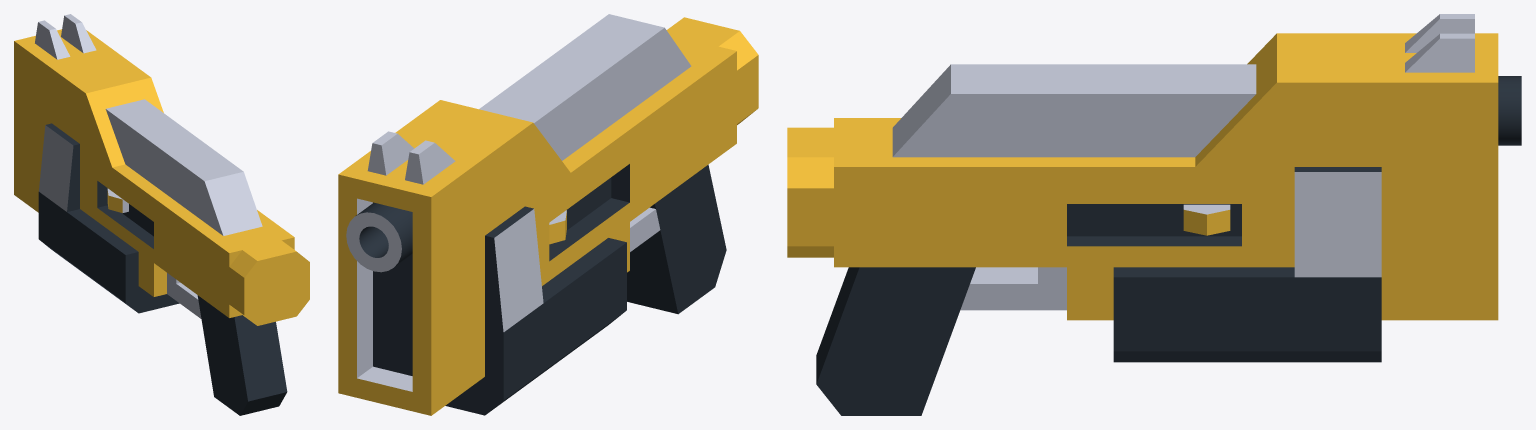
File: blasterM.dae
3 views of the same model, side by side, from view 1: azimuth 30°, elevation 25°; view 2: azimuth 150°, elevation 25°; view 3: azimuth 270°, elevation 25° (orthographic). The views are drawn at different scales.
Visible parts, largest first — view 1: blasterM; view 2: blasterM; view 3: blasterM.
Boxes of the visible parts, x1,y1,x2,y2 form: blasterM: (14,14,309,415); blasterM: (338,14,758,415); blasterM: (787,14,1521,415).
Bounding box in the file's own units: 0.14 × 0.355 × 0.63.
